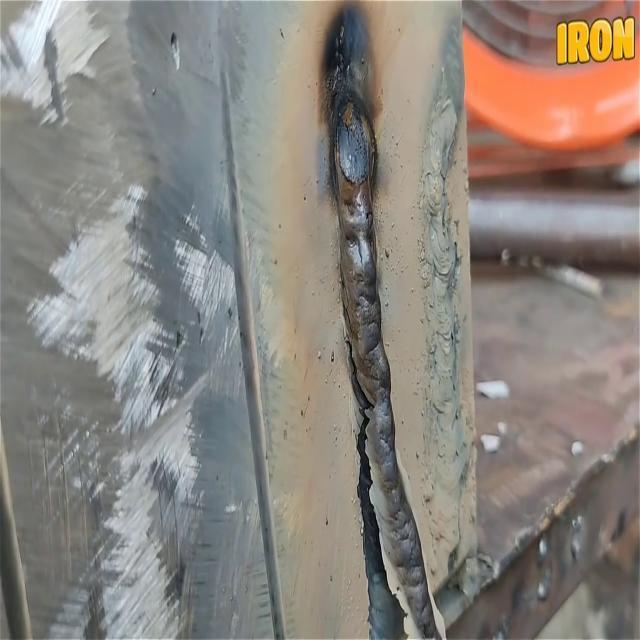Bad Welding: (331, 9, 444, 640)
Crack: (358, 416, 405, 640)
